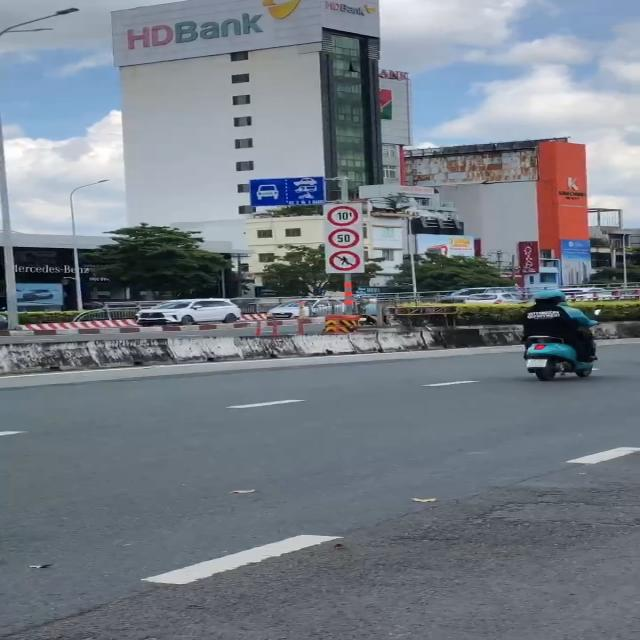Bien bao cam nguoi di bo: (327, 248, 364, 272)
Bien bao toc do toi da cho phep: (326, 228, 363, 248)
